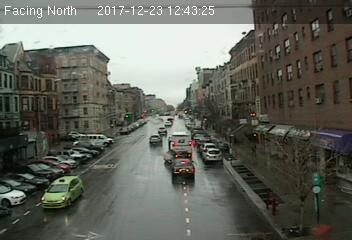car: (39, 174, 84, 209), (172, 158, 195, 178), (200, 148, 223, 162), (148, 134, 162, 144)
truck: (169, 132, 194, 144)
